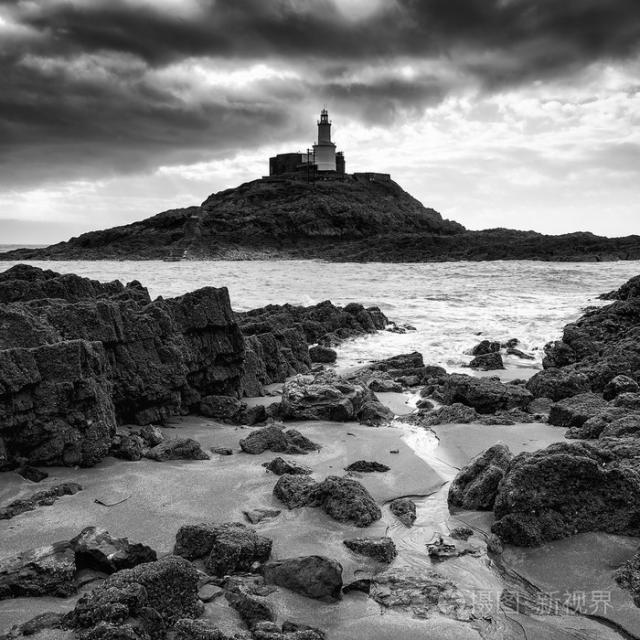island: (2, 100, 630, 270)
